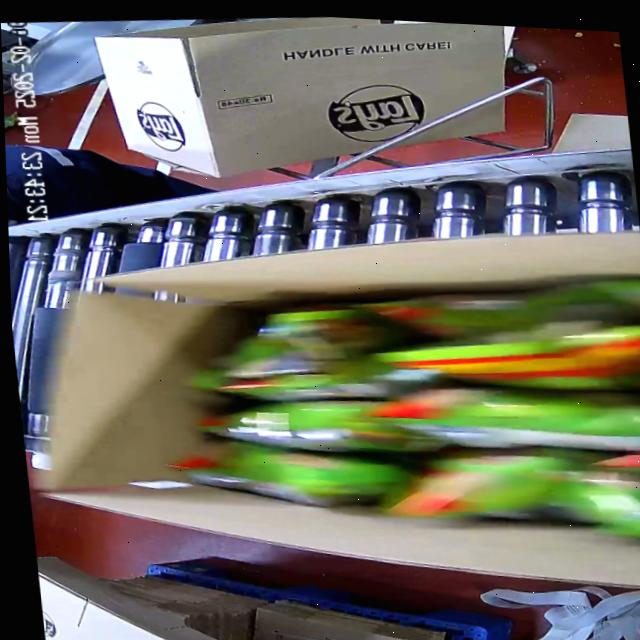YOGURT_HERB: (171, 259, 640, 565)
